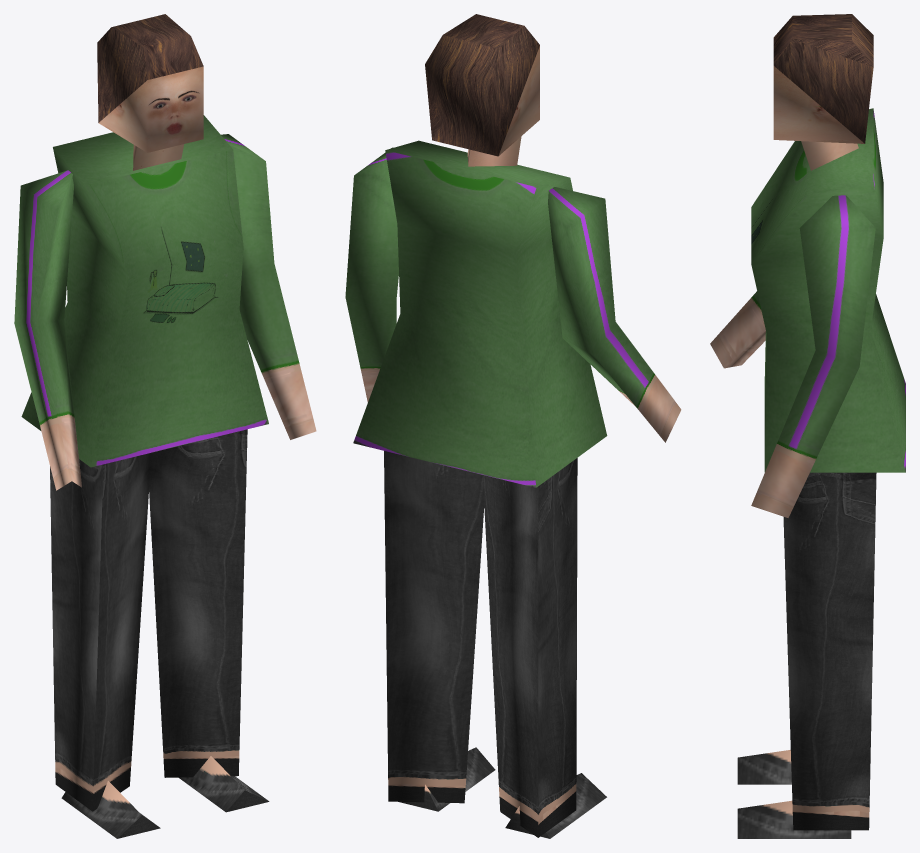
The model's file is woman-casual-cbj_LOD02.gltf.
The picture shows the model from 3 angles, left to right: view 1: azimuth 30°, elevation 25°; view 2: azimuth 150°, elevation 25°; view 3: azimuth 270°, elevation 25°; orthographic projection. The views are drawn at different scales.
Parts seen in each view (by area): view 1: trunk, legs, head, feet; view 2: trunk, legs, head, feet; view 3: trunk, legs, head, feet.
Boxes of the visible parts, <box> form: trunk: <box>14,115,316,490</box>; legs: <box>50,429,247,811</box>; head: <box>97,14,203,170</box>; feet: <box>61,756,269,838</box>; trunk: <box>345,140,681,487</box>; legs: <box>384,451,577,837</box>; head: <box>425,14,539,166</box>; feet: <box>398,747,606,838</box>; trunk: <box>710,108,905,517</box>; legs: <box>783,472,876,830</box>; head: <box>773,14,873,170</box>; feet: <box>737,750,851,838</box>.
Size of what is drawn, in the model's own units: 0.5847 by 1.6 by 0.3673.
